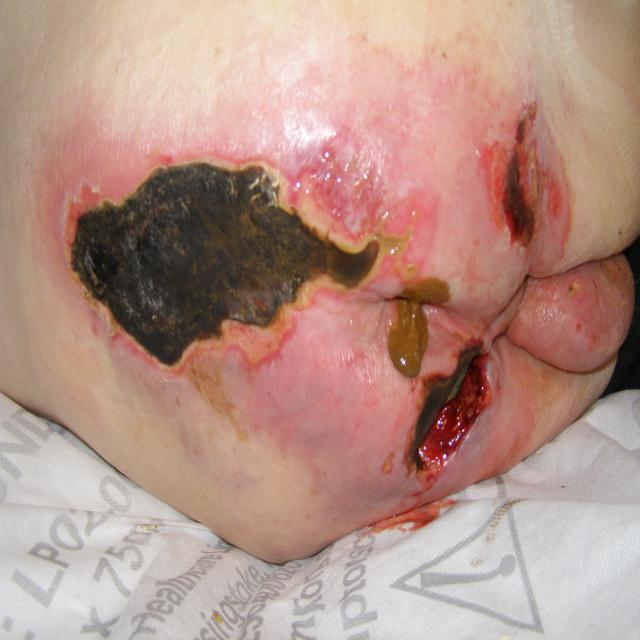wound: (68, 102, 549, 480)
